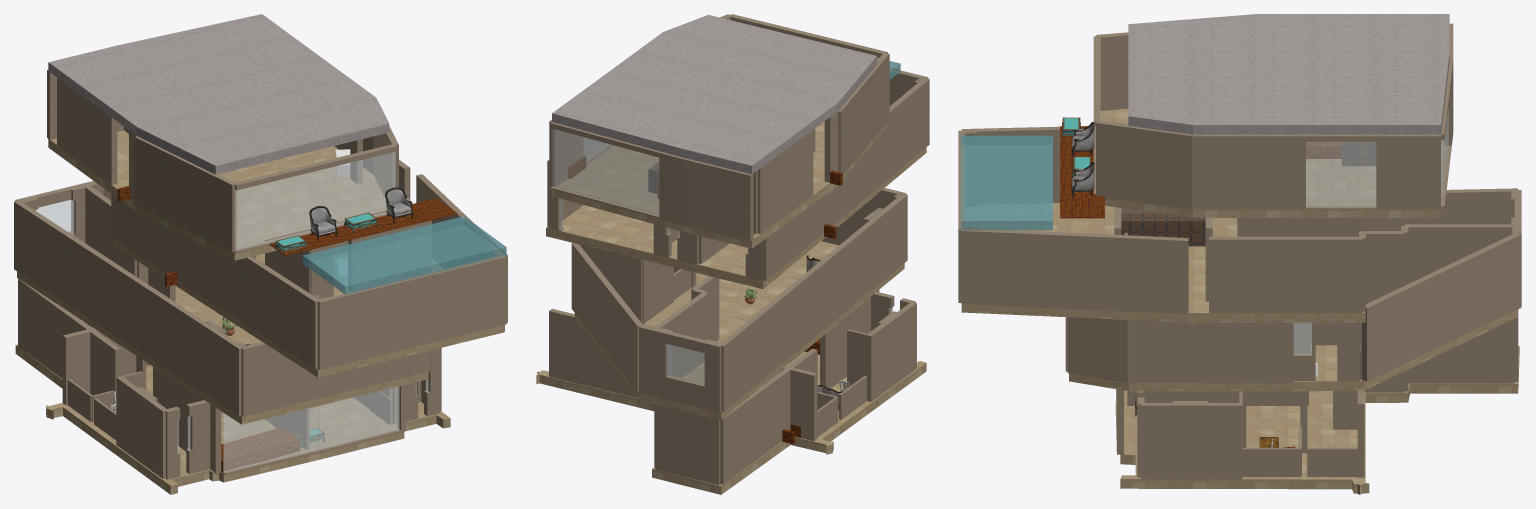
Rendered from villa-ce.glb.
3 views of the same model, side by side, from view 1: azimuth 30°, elevation 25°; view 2: azimuth 150°, elevation 25°; view 3: azimuth 270°, elevation 25° (orthographic). The views are drawn at different scales.
Visible parts, largest first — view 1: floor_second, floor_first, floor_lower-ground, floor_stilt; view 2: floor_second, floor_stilt, floor_lower-ground, floor_first; view 3: floor_second, floor_first, floor_stilt, floor_lower-ground.
Boxes of the visible parts, x1,y1,x2,y2 form: floor_second: [47, 14, 506, 294]; floor_first: [111, 159, 507, 377]; floor_lower-ground: [15, 279, 450, 494]; floor_stilt: [14, 181, 431, 424]; floor_second: [549, 14, 900, 248]; floor_stilt: [571, 188, 907, 419]; floor_lower-ground: [536, 290, 926, 494]; floor_first: [546, 68, 929, 289]; floor_second: [961, 14, 1453, 230]; floor_first: [958, 126, 1365, 322]; floor_stilt: [1065, 188, 1521, 391]; floor_lower-ground: [1115, 317, 1519, 494].
Size of what is drawn, in the model's own units: 12.5 by 12.35 by 18.44.
16 materials, 13 textured.
